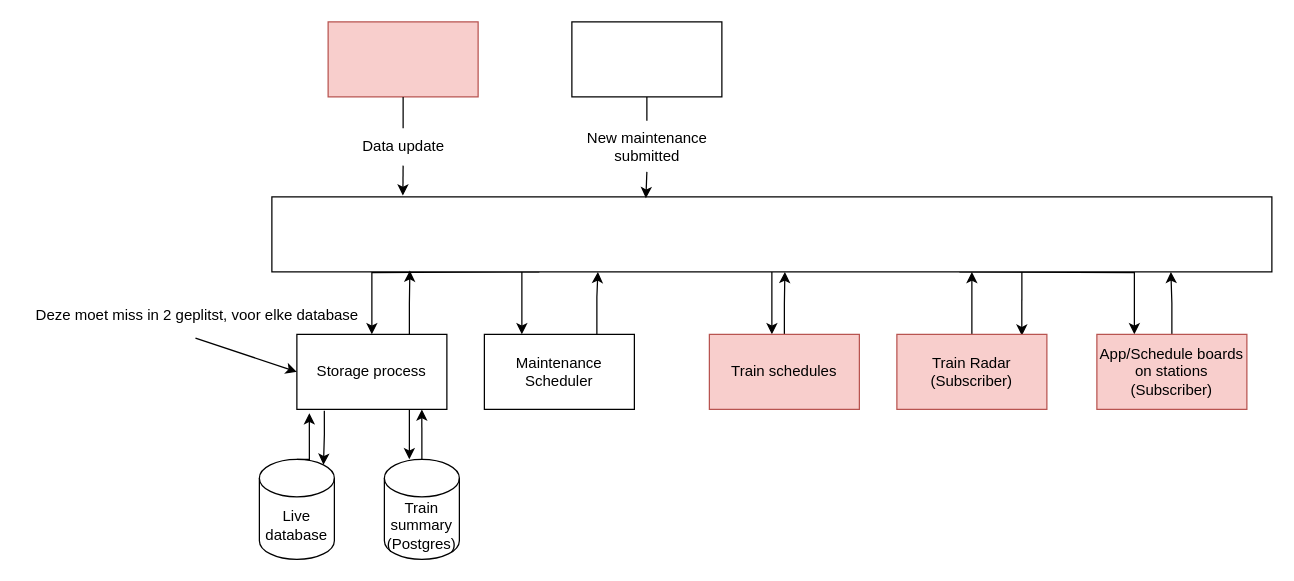
This 1294x581 diagram has some shape labels left out. Here are the shapes that lost their labels. From the top down, the centre of each, then its label:
At pixel 402 59: "Sensors".
At pixel 646 59: "Manual maintenance API".
At pixel 771 234: "Event bus".
